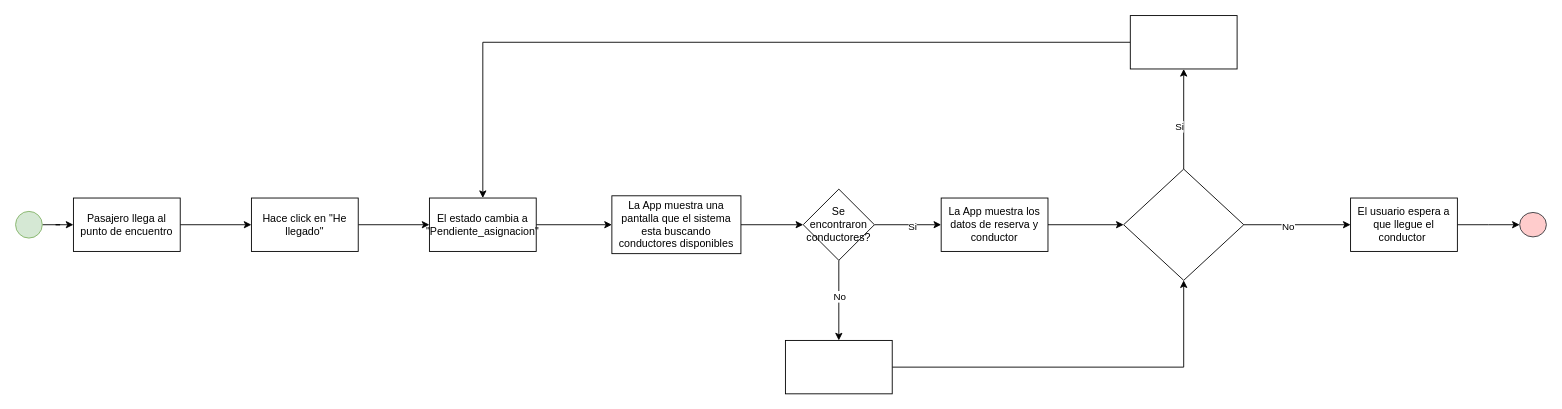
Some shapes in this 1562 by 409 pixel diagram are drawn without their labels. Each missing label, with the centre of its shape:
El pasajero tuvo algún inconveniente y no quiere que lo pasen a buscar ahora?: (x=1183, y=224)
El usuario tiene un botón "Cancelar" que modifica el estado de la reserva: (x=1183, y=42)
La App sigue buscando a conductores: (x=838, y=367)
